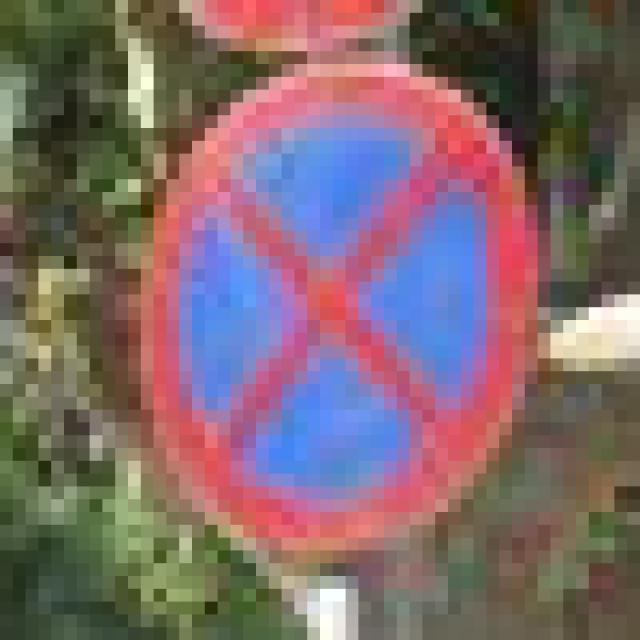NO_STOPPING_OR_STANDING: (115, 52, 525, 550)
